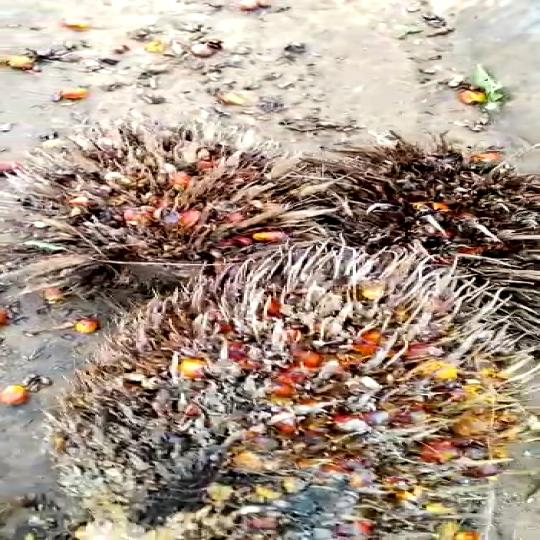terlalu masak: (44, 241, 528, 508), (0, 134, 303, 281), (294, 134, 540, 262)
